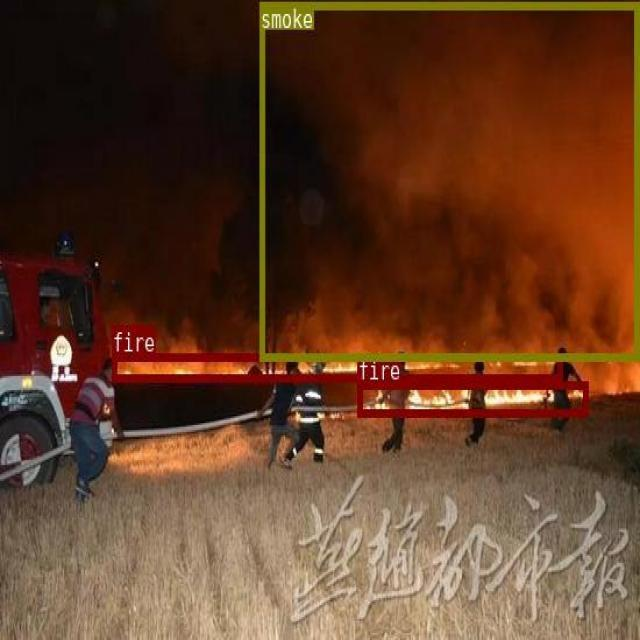fire: (112, 352, 562, 380), (358, 381, 588, 416)
smoke: (259, 0, 638, 359)
